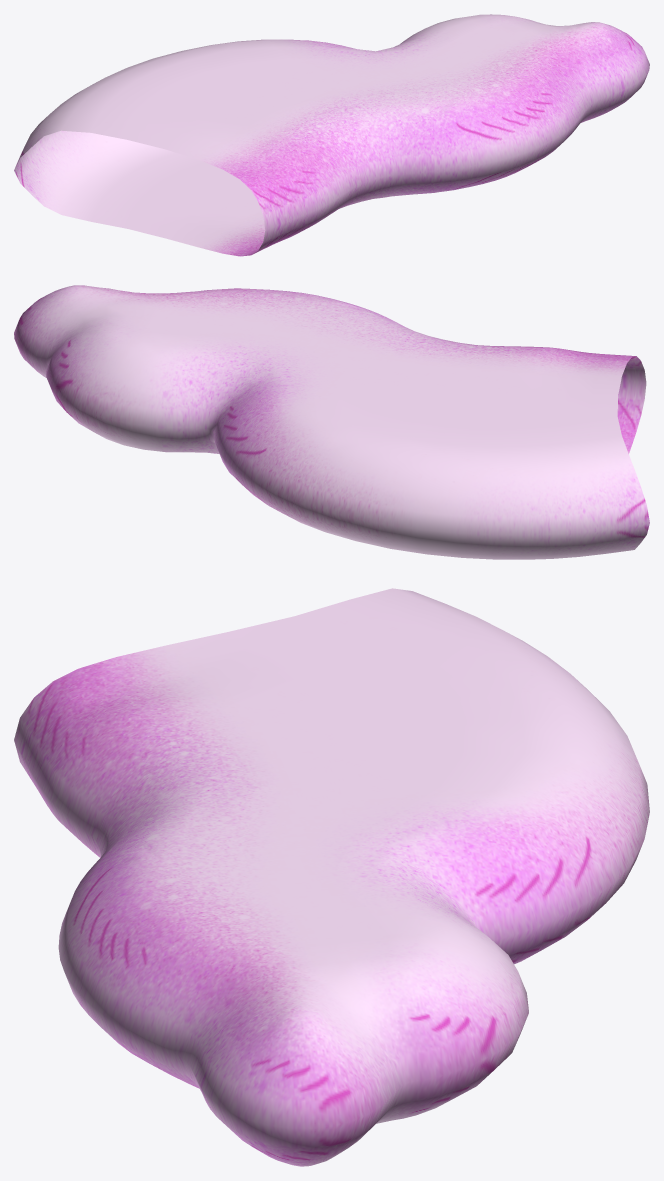
Rendered from Cloud_B_nuki_2_Right.obj.
3 renders of one model, top to bottom at view 1: azimuth 30°, elevation 25°; view 2: azimuth 150°, elevation 25°; view 3: azimuth 270°, elevation 25°, orthographic. The views are drawn at different scales.
Visible parts, largest first — view 1: Cloud_B_nuki_2_Right; view 2: Cloud_B_nuki_2_Right; view 3: Cloud_B_nuki_2_Right.
Part boxes in pixels (x1=…): Cloud_B_nuki_2_Right: x1=14, y1=14, x2=649, y2=256; Cloud_B_nuki_2_Right: x1=14, y1=285, x2=649, y2=559; Cloud_B_nuki_2_Right: x1=14, y1=588, x2=649, y2=1166.
Size of the model in its own units: 1.08 by 0.1561 by 0.5875.
Materials: 1 (1 with a texture image).
